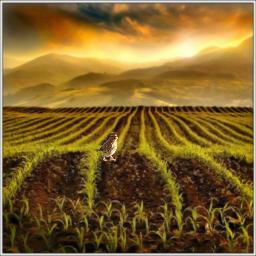Sparrow: (94, 133, 118, 161)
